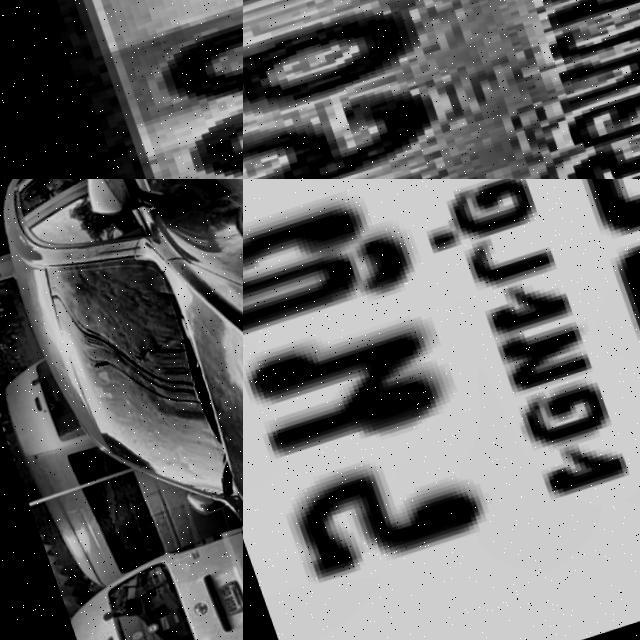license-plate: (243, 179, 640, 640), (243, 0, 640, 179), (0, 0, 243, 179), (194, 579, 240, 624)
